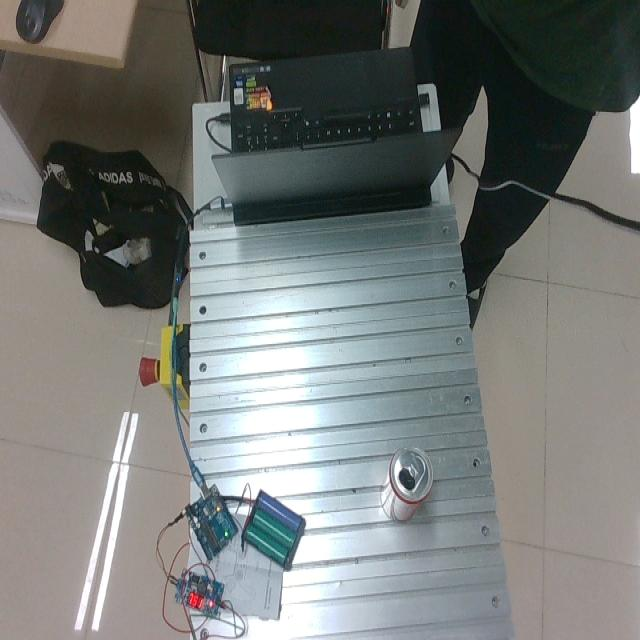coca: (380, 446, 434, 522)
